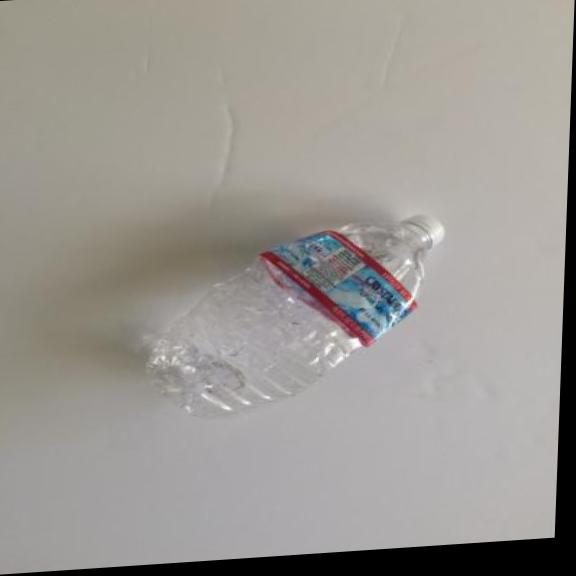Plastik: (130, 196, 453, 430)
